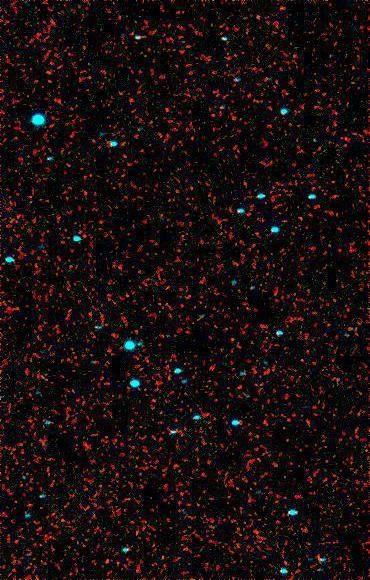star: (243, 2, 273, 32)
